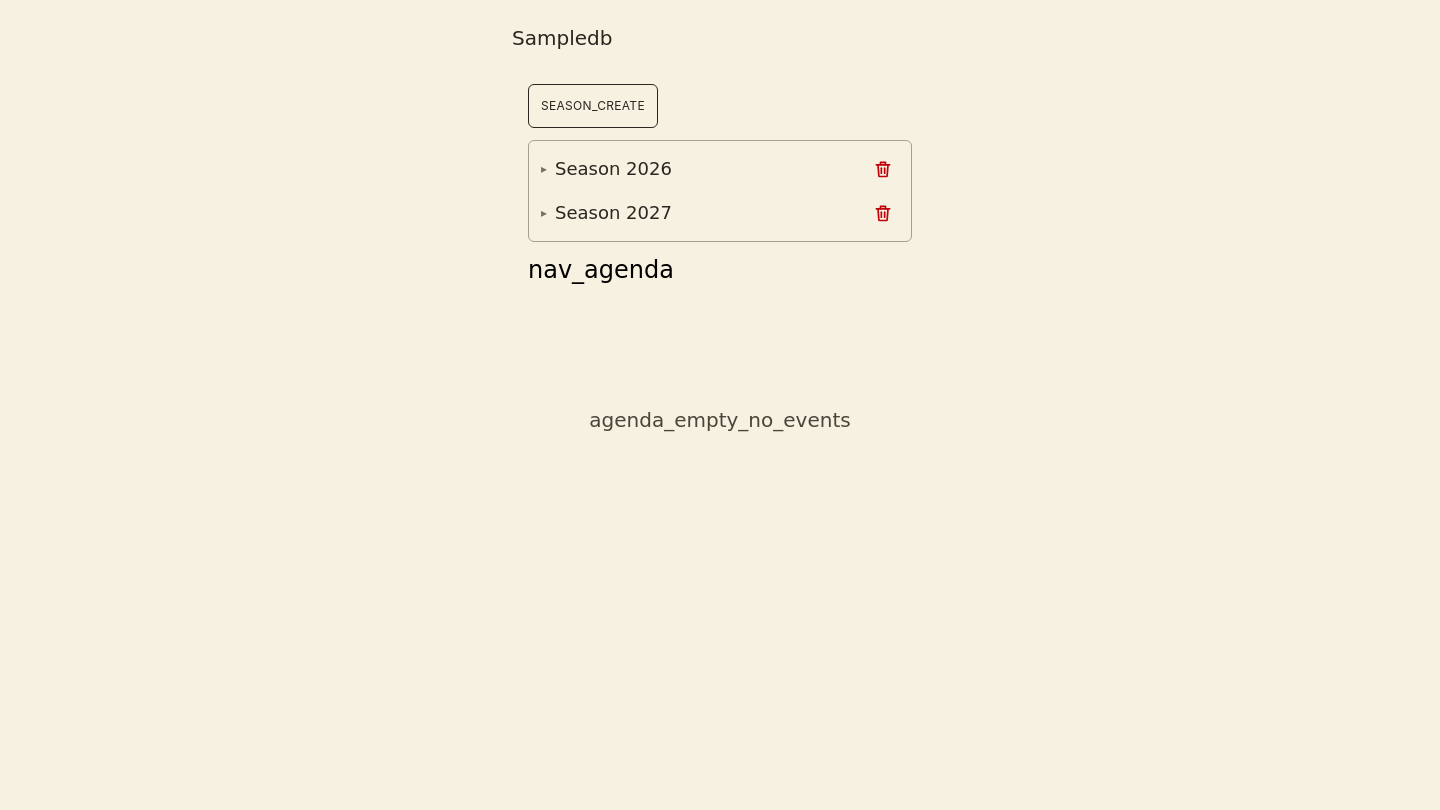
it: season card #277 — switching the managed season is a context switch › race (a): a series read for A still in flight when the admin switches to B NEVER repopulates B’s panel
Step 1. Click the button with test id "season-card-expand" → coordinates (694, 169), box x1=535 y1=147 x2=853 y2=191
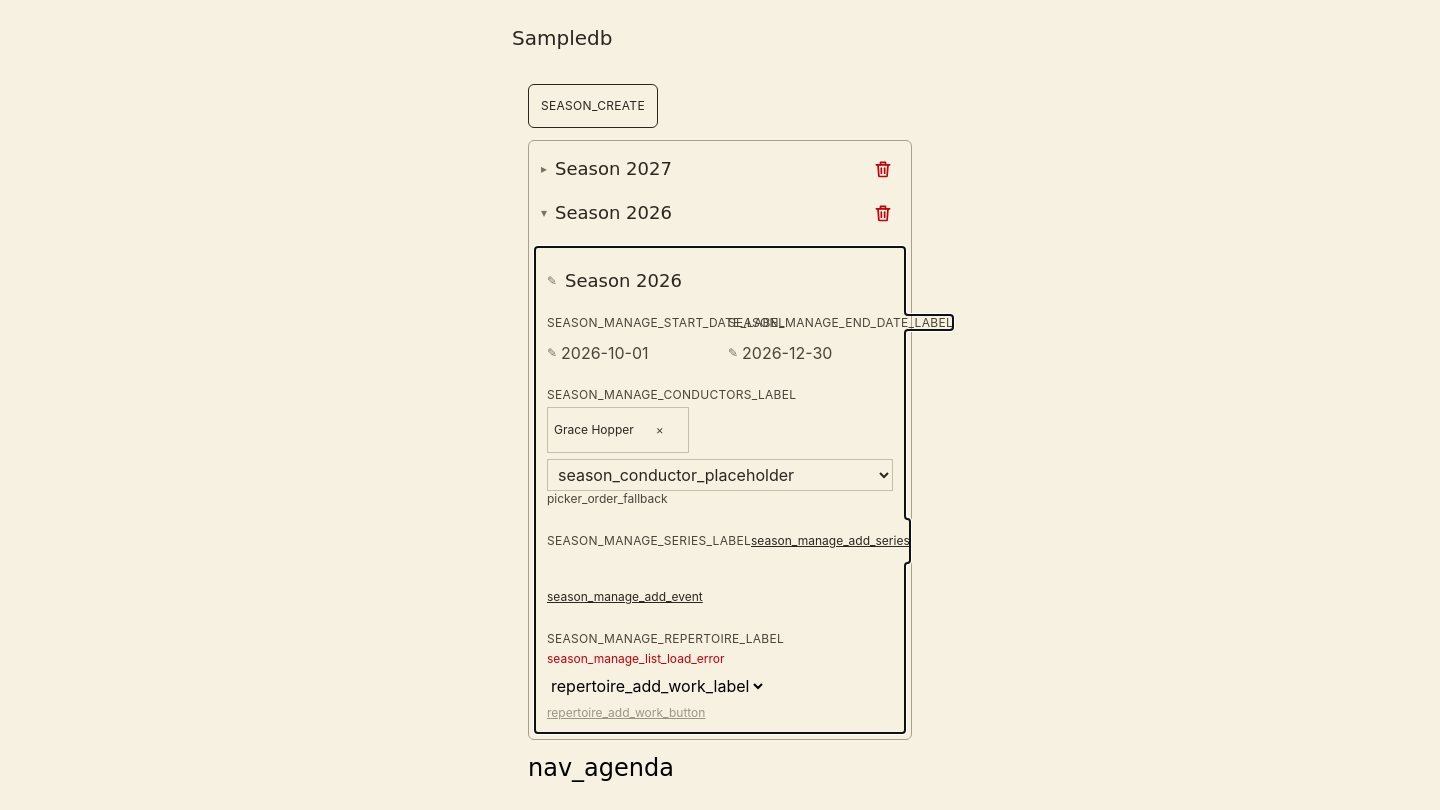
Expected: the 1st text "Season 2026" is shown, x1=555 y1=199 x2=672 y2=227
Step 2. Click the button with test id "season-card-expand" → coordinates (694, 169), box x1=535 y1=147 x2=853 y2=191
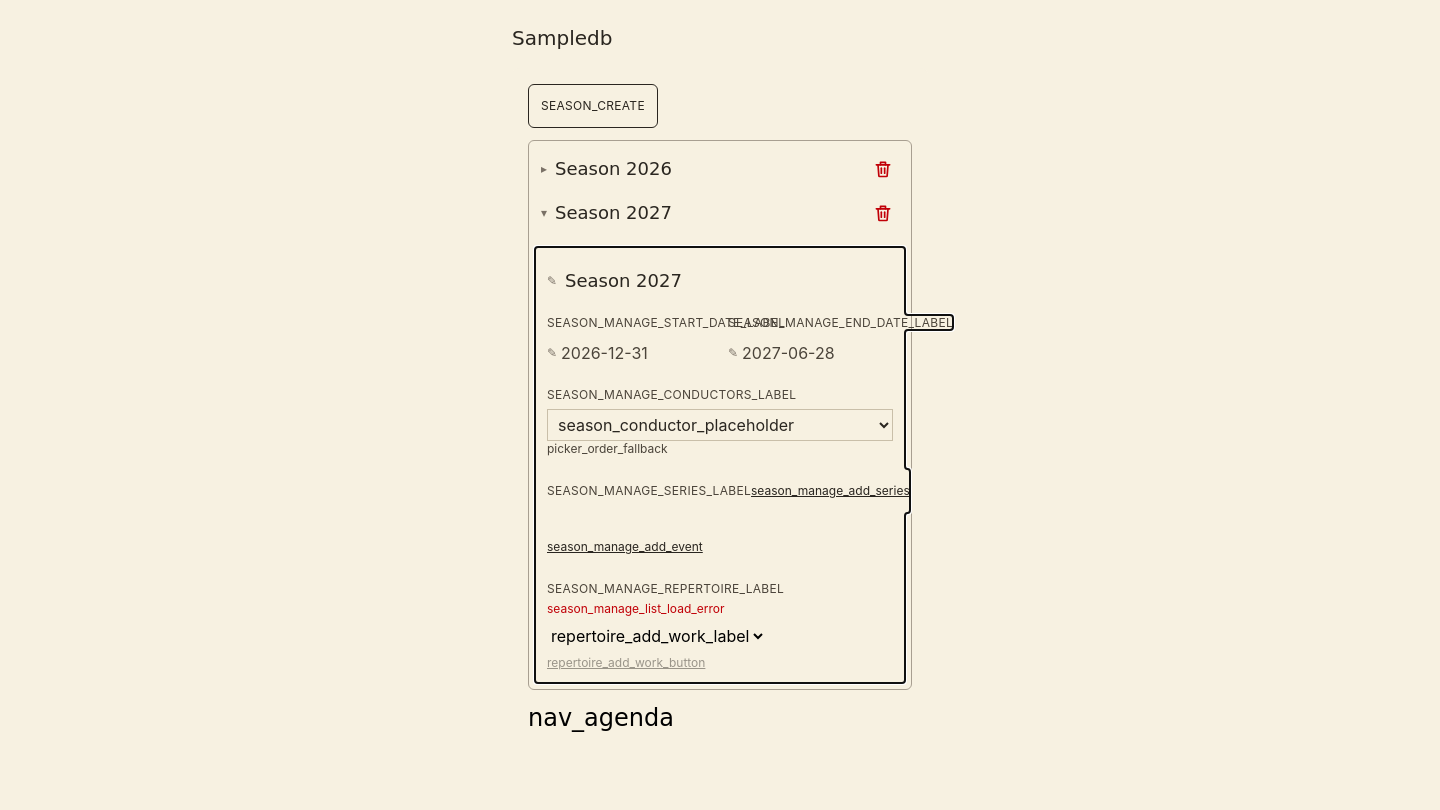
Expected: the 1st text "Season 2027" is shown, x1=555 y1=199 x2=672 y2=227
